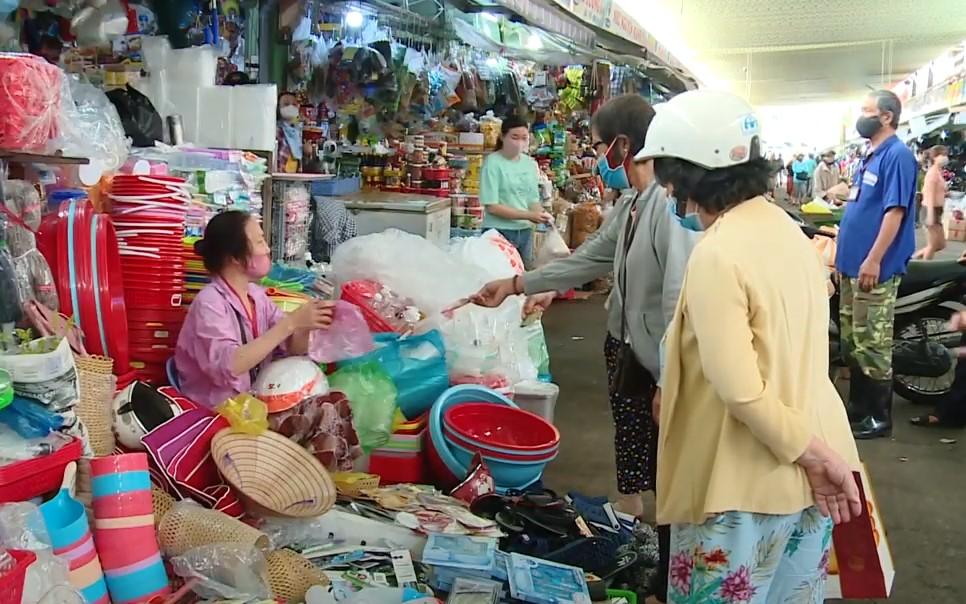face_with_mask: (650, 154, 767, 232), (588, 96, 655, 195), (202, 204, 275, 280), (855, 87, 901, 140), (500, 116, 532, 159), (818, 147, 840, 167), (924, 150, 951, 164)
